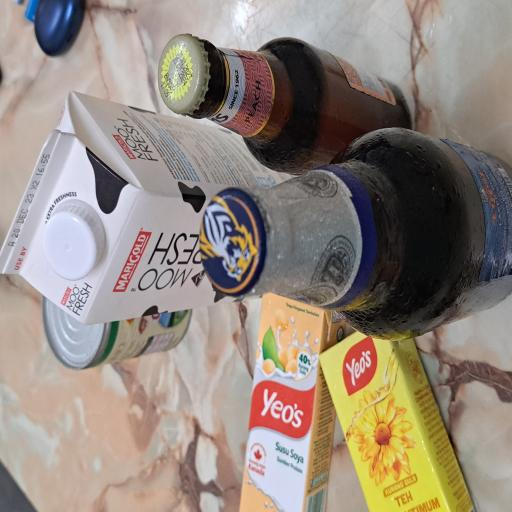can: (108, 54, 164, 257)
drink carton: (141, 0, 315, 394), (0, 315, 167, 467), (0, 423, 137, 512)
glass bottle: (129, 262, 288, 512), (251, 210, 356, 512)
plastic bottle cap: (173, 56, 234, 140)
